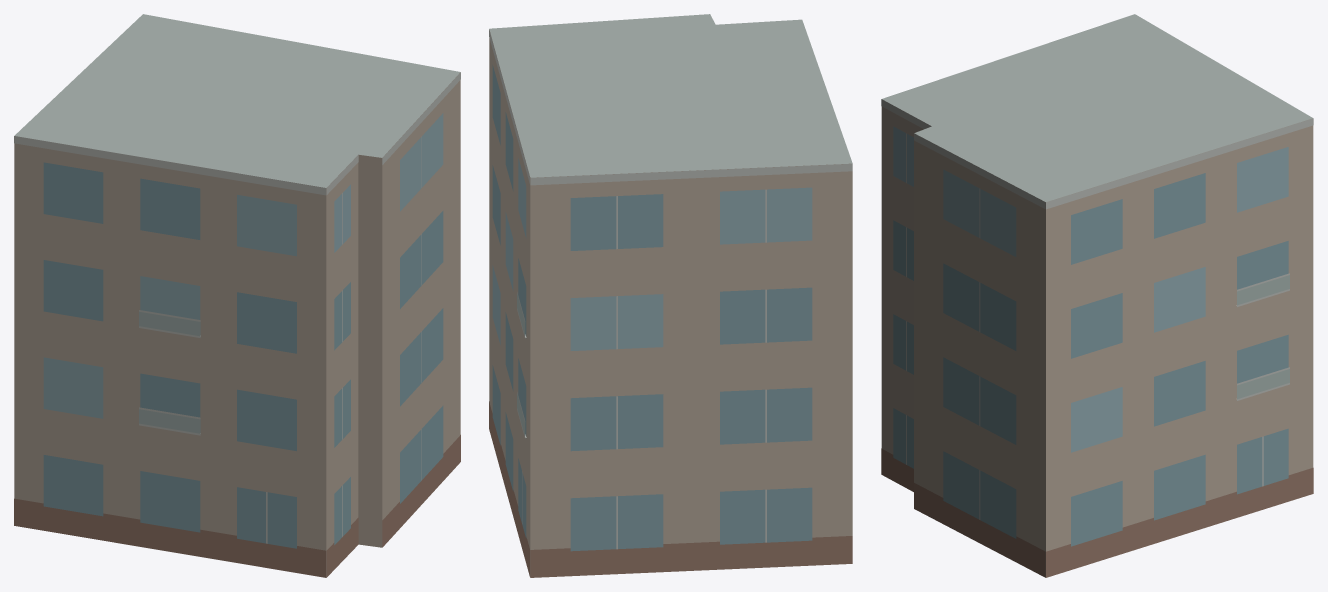
The model's file is survey-upis-32818816.glb.
3 views of the same model, side by side, from view 1: azimuth 30°, elevation 25°; view 2: azimuth 150°, elevation 25°; view 3: azimuth 270°, elevation 25° (orthographic). The views are drawn at different scales.
Parts seen in each view (by area): view 1: survey-upis-32818816.tmp; view 2: survey-upis-32818816.tmp; view 3: survey-upis-32818816.tmp.
Part boxes in pixels (x1,y1,x2,y2): survey-upis-32818816.tmp: (14, 14, 460, 577); survey-upis-32818816.tmp: (489, 14, 852, 577); survey-upis-32818816.tmp: (881, 14, 1313, 577).
Size of the model in its own units: 13.66 by 12.7 by 13.24.
